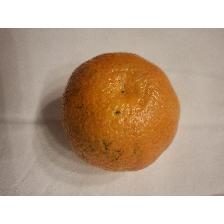Mandarine: (59, 50, 183, 174)
